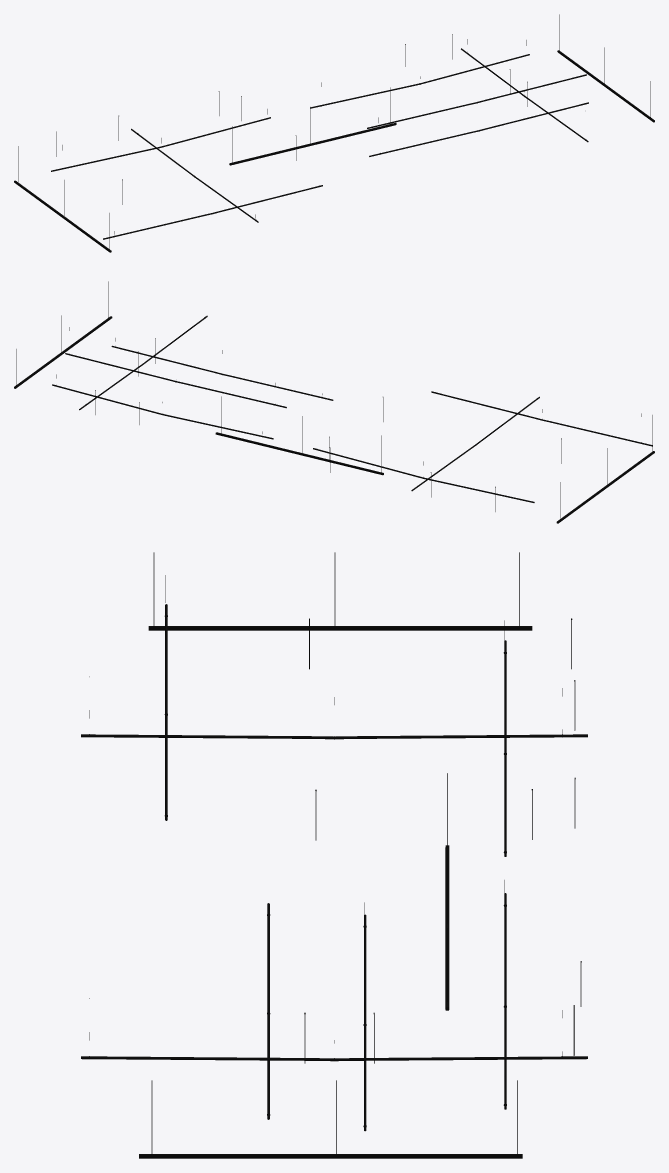
File: BlackMetal.FBX
3 views of the same model, one above another, from view 1: azimuth 30°, elevation 25°; view 2: azimuth 150°, elevation 25°; view 3: azimuth 270°, elevation 25° (orthographic). The views are drawn at different scales.
Parts seen in each view (by area): view 1: BlackMetal (×8); view 2: BlackMetal (×8); view 3: BlackMetal (×5).
Boxes of the visible parts, box(x1,y1,x2,y2) form: BlackMetal (×8): box(14, 14, 654, 252); BlackMetal (×8): box(14, 281, 654, 523); BlackMetal (×5): box(81, 552, 587, 1158).
Size of the model in its own units: 45.46 by 4.41 by 18.31.
1 material, 1 textured.
